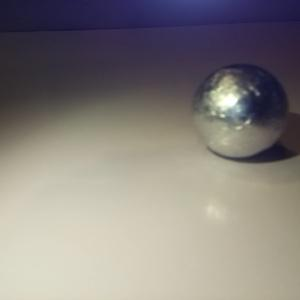alive_ball: (190, 63, 288, 159)
